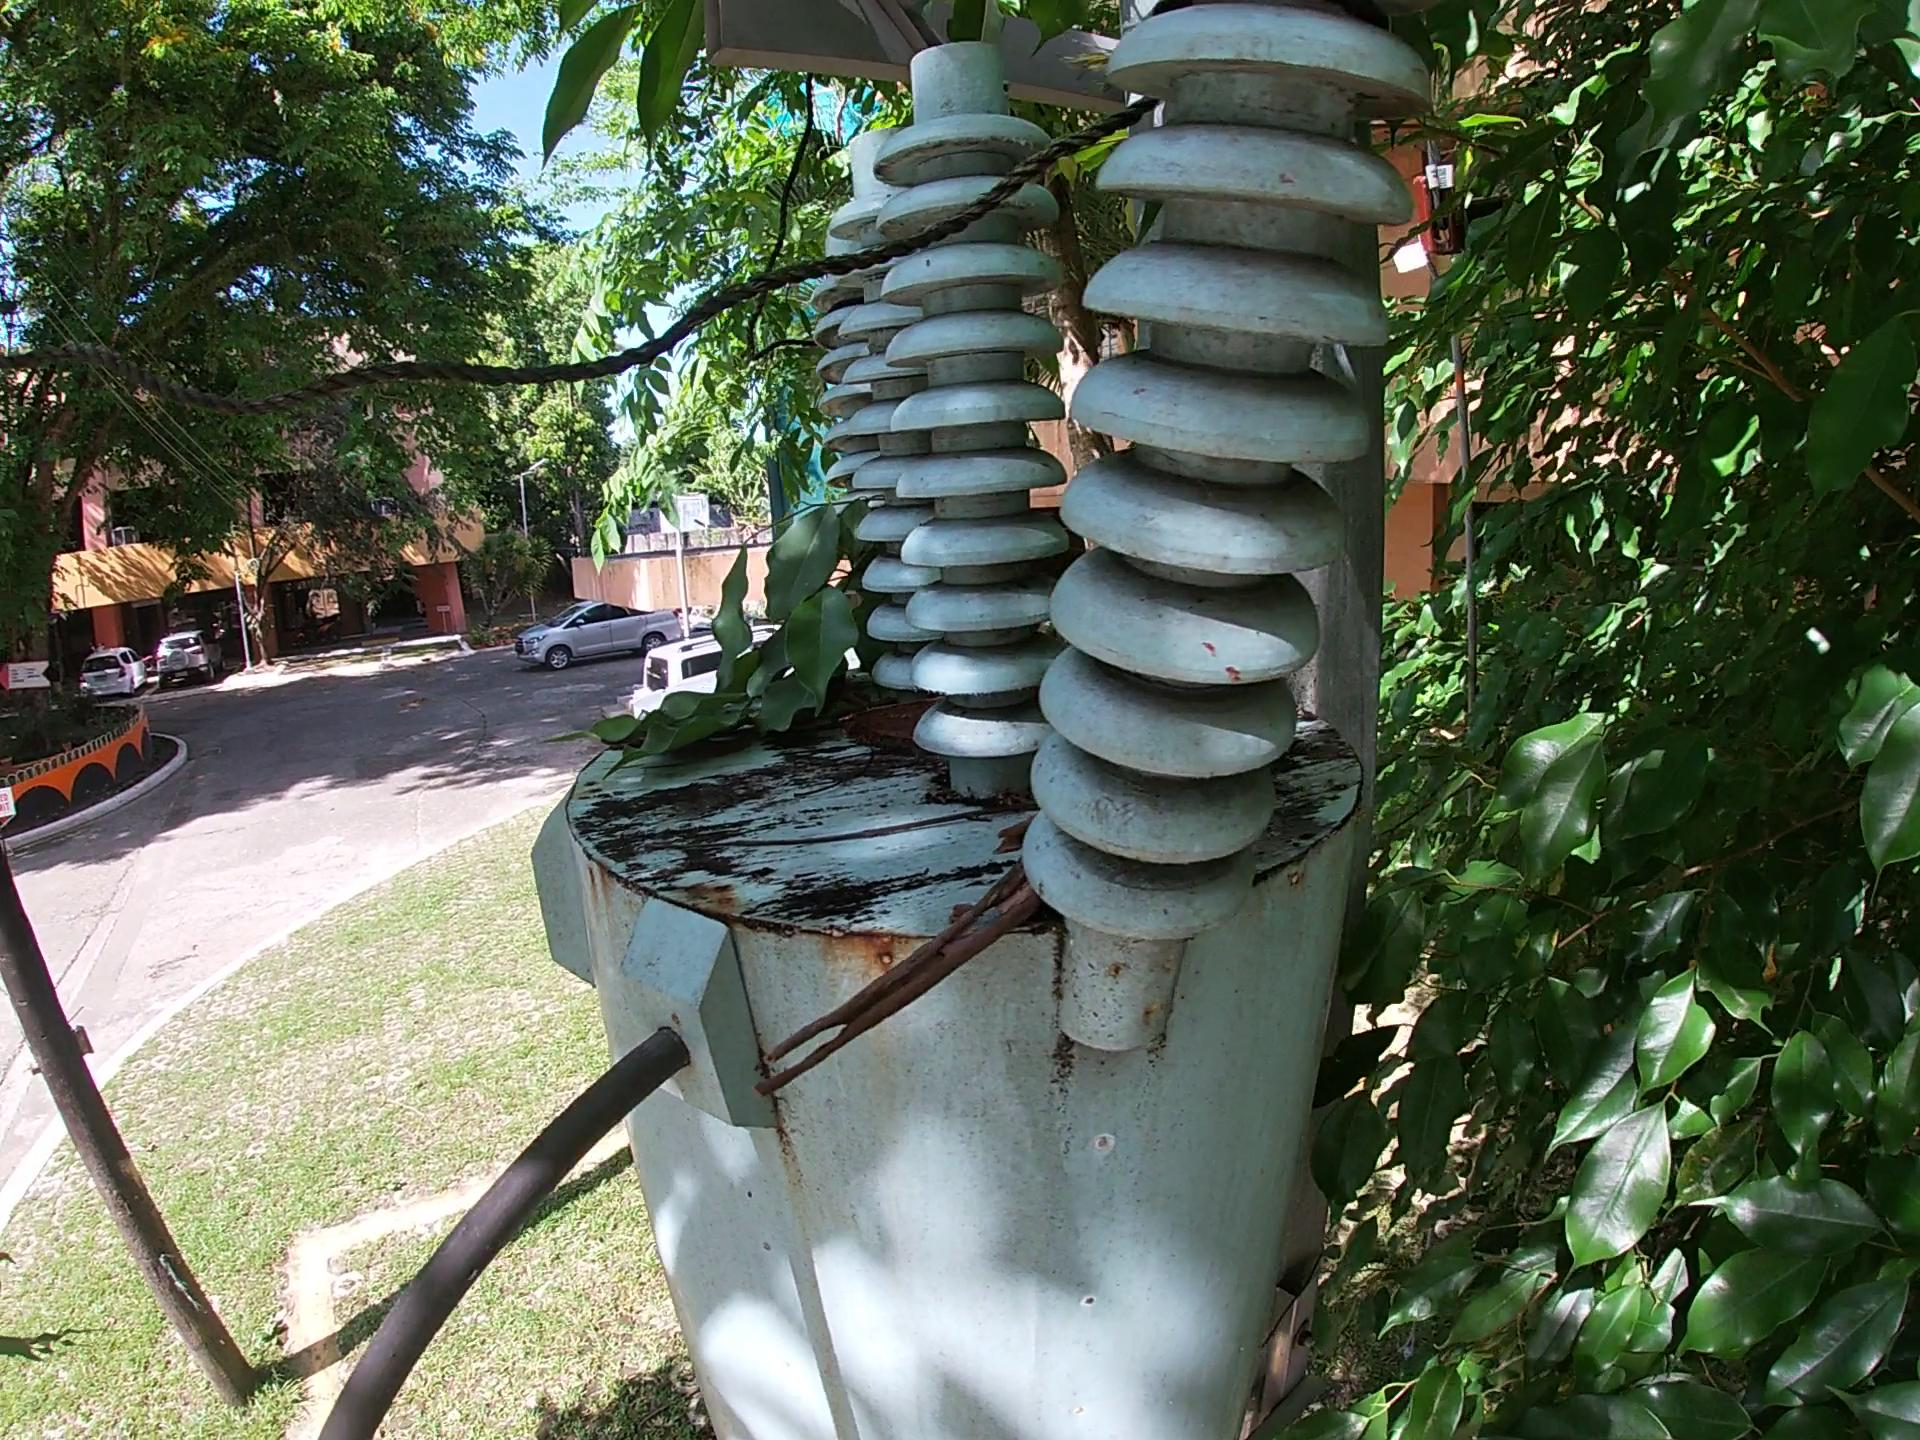branch with leaves: (581, 483, 884, 782)
mahogany fruit: (838, 700, 948, 761)
tree branch: (748, 821, 1087, 1109), (714, 782, 1027, 846), (780, 756, 859, 814)
